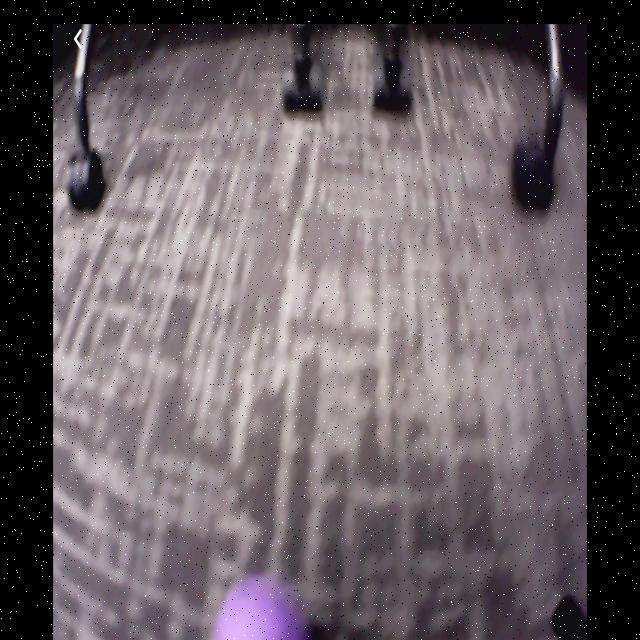ball: (216, 575, 290, 640)
